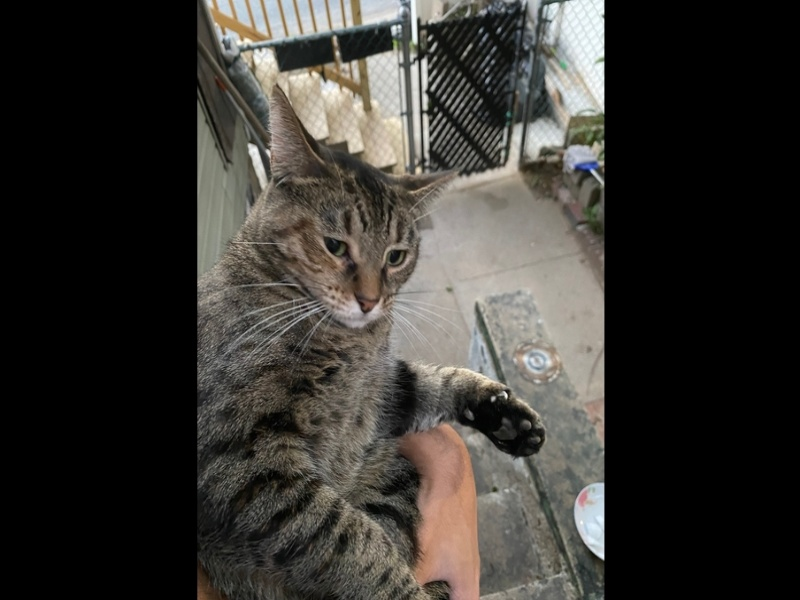cat: (200, 78, 550, 594)
